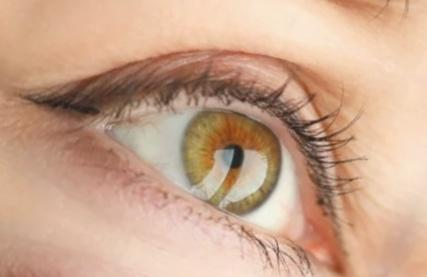eye: (184, 105, 282, 210)
